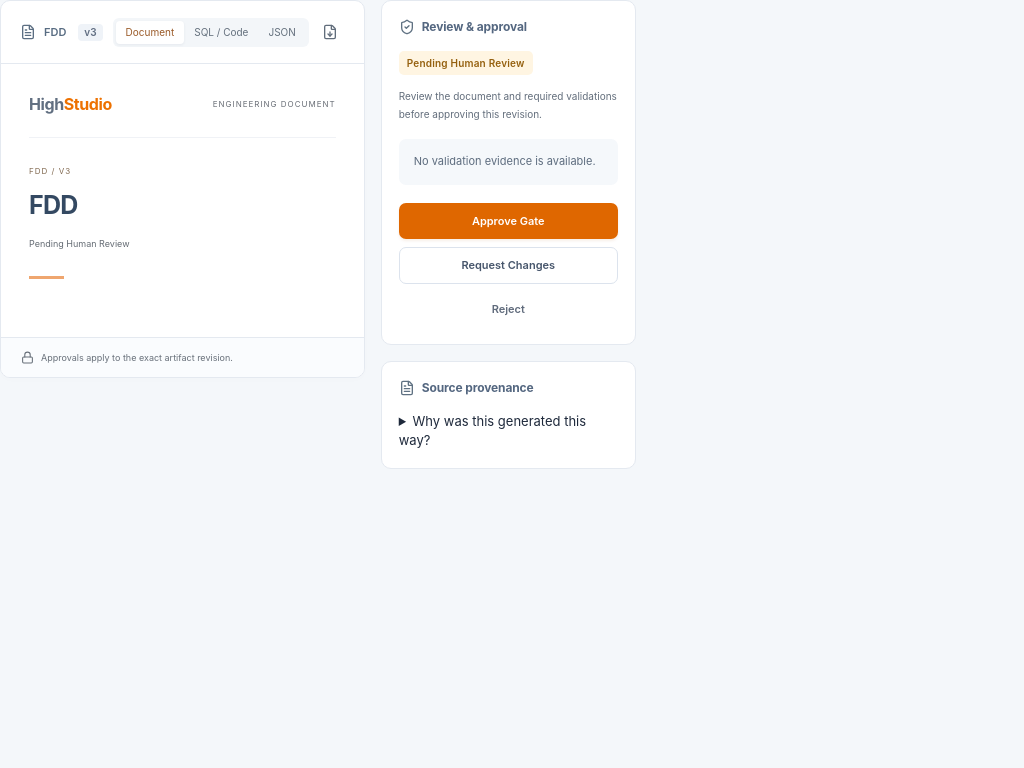
Test: Artifact Studio structured viewer › retains review feedback after a failed submission and does not ask for a reviewer name
Click the button "Request Changes": [508, 266] box [399,247,618,284]
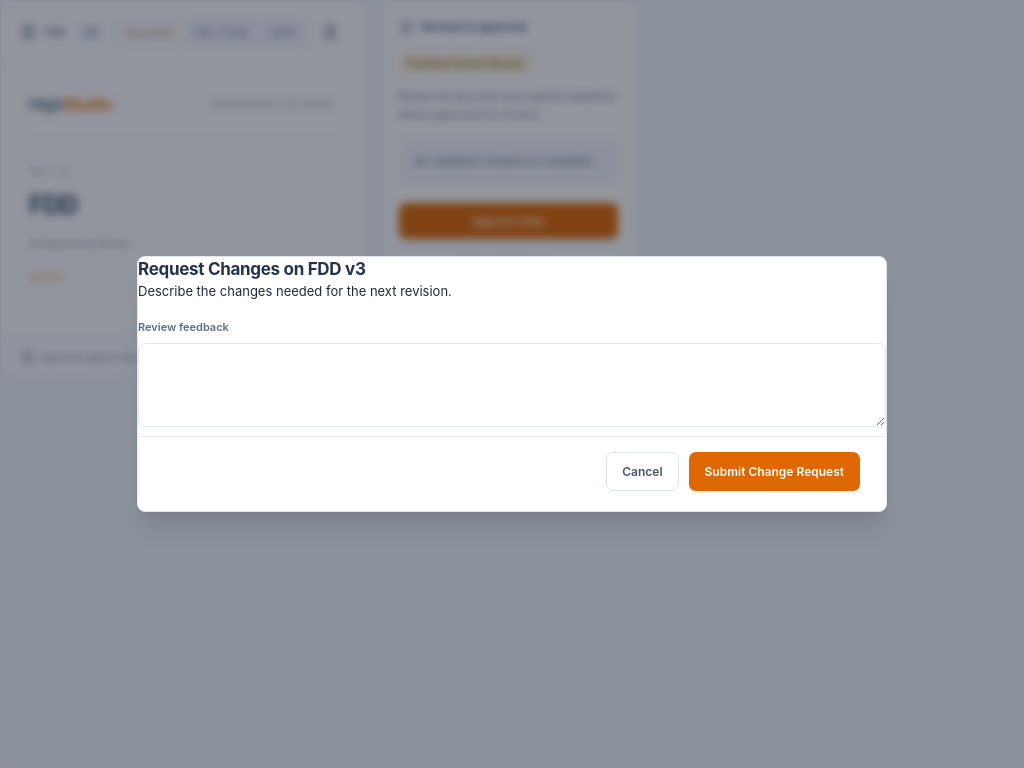
In the text box labelled "Review feedback": [512, 385] box [138,343,886,427], type "Use the approved supplier mappings."
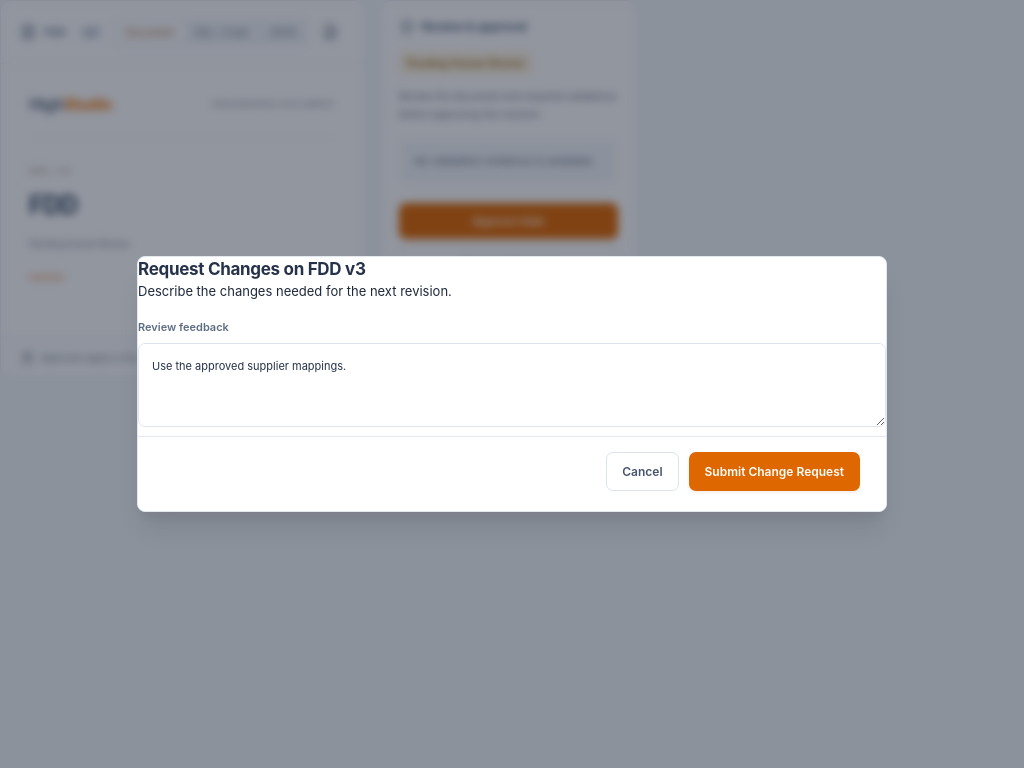
Click the button "Submit Change Request": [774, 472] box [689,452,860,491]
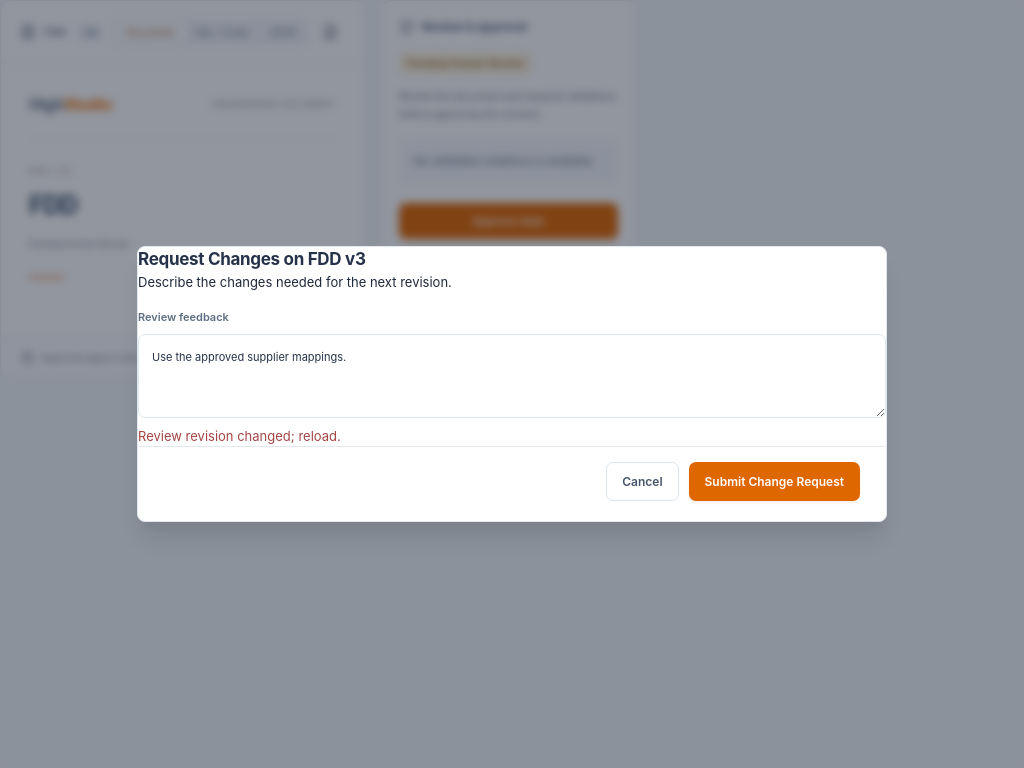
Expected: the text "Review revision changed; reload." is shown, [138,428,341,444]
Click the button "Submit Change Request": [774, 482] box [689,462,860,501]
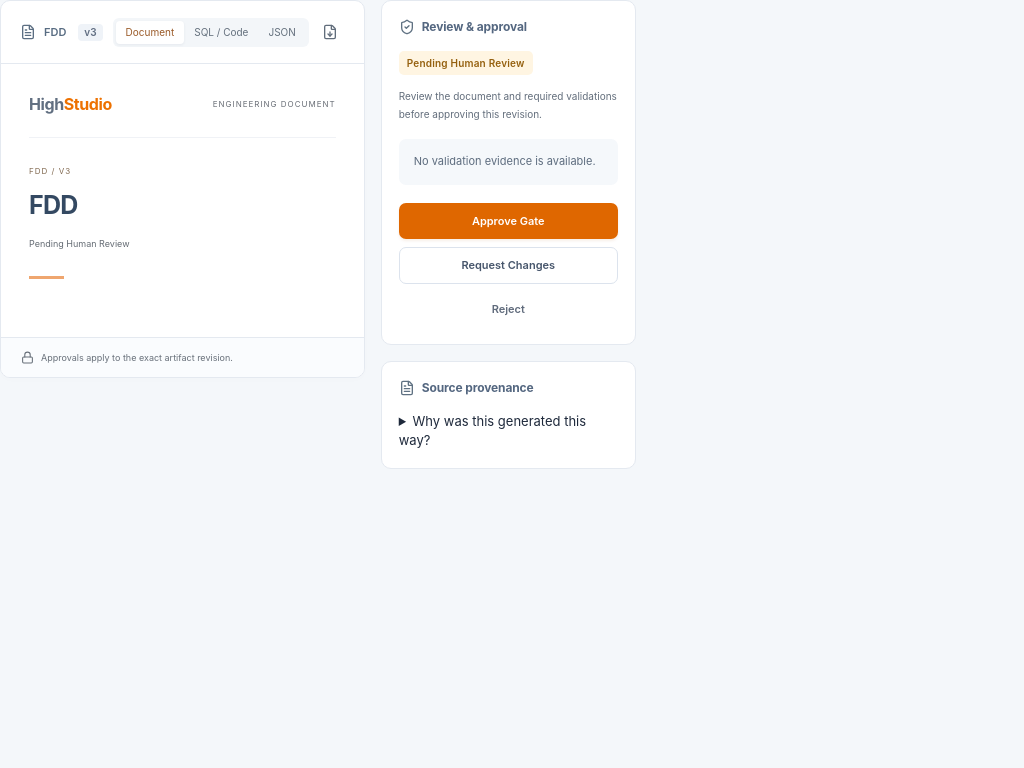
Expected: the dialog is gone
